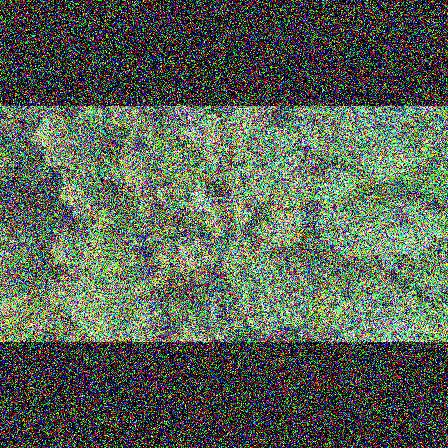Dead: (205, 274, 222, 321)
